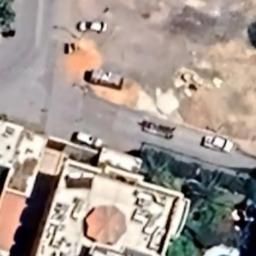pickup: (199, 130, 237, 154)
sedan: (72, 16, 108, 36)
truck: (70, 125, 108, 154)
